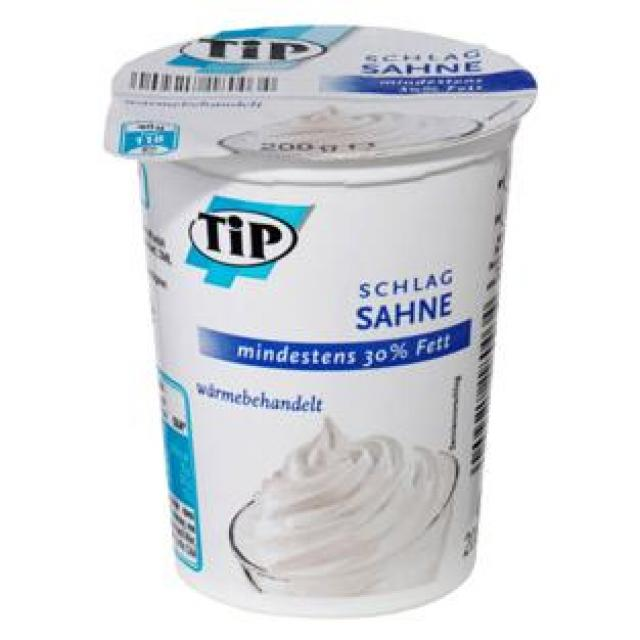cream: (105, 25, 535, 615)
